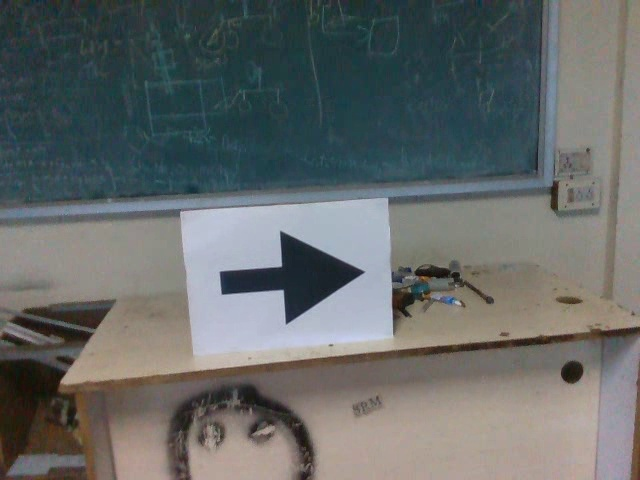Right: (212, 228, 366, 328)
